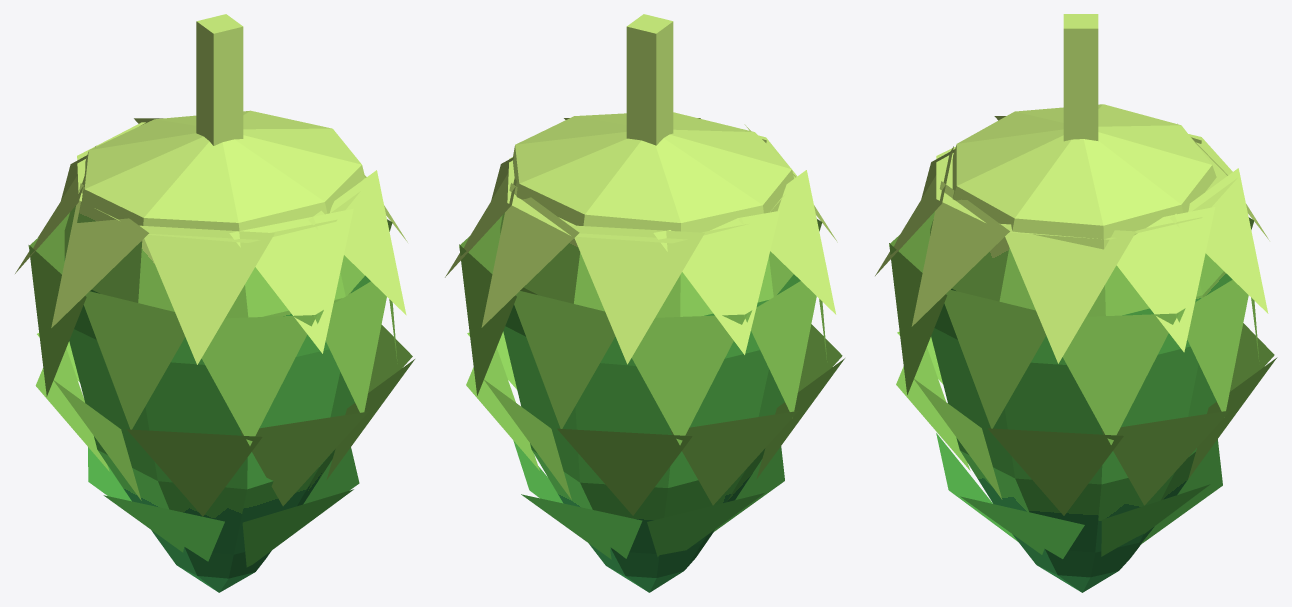
The model's file is hops.fbx.
3 views of the same model, side by side, from view 1: azimuth 30°, elevation 25°; view 2: azimuth 150°, elevation 25°; view 3: azimuth 270°, elevation 25° (orthographic).
Parts seen in each view (by area): view 1: hops; view 2: hops; view 3: hops.
Boxes of the visible parts, bbox=[...] form: hops: bbox=[15, 14, 414, 592]; hops: bbox=[445, 14, 844, 592]; hops: bbox=[875, 14, 1277, 592].
Bounding box in the file's own units: 74.59 × 114 × 73.09.
Materials: 1 (1 with a texture image).
